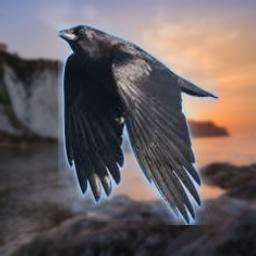Crow: (58, 22, 219, 225)
